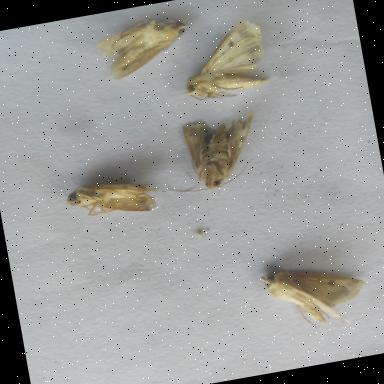abw: (152, 104, 271, 202), (255, 250, 378, 341), (169, 12, 278, 108), (84, 5, 200, 86), (57, 167, 166, 231)
